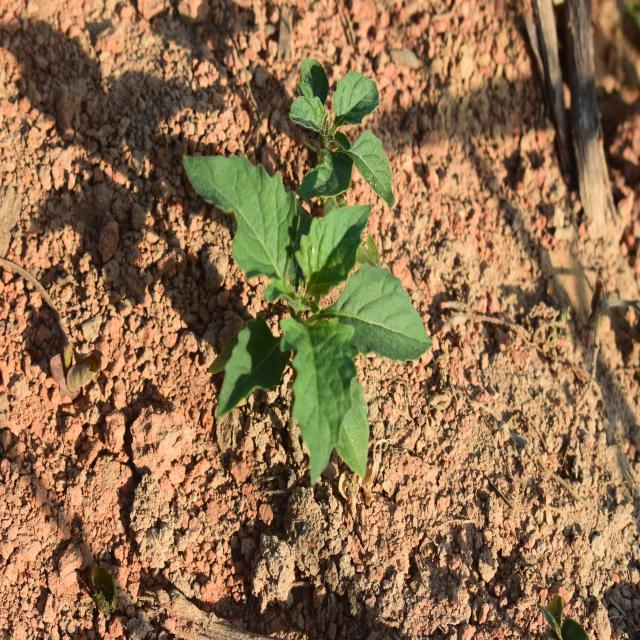Black_nightshade: (208, 164, 412, 487), (271, 60, 405, 216)
